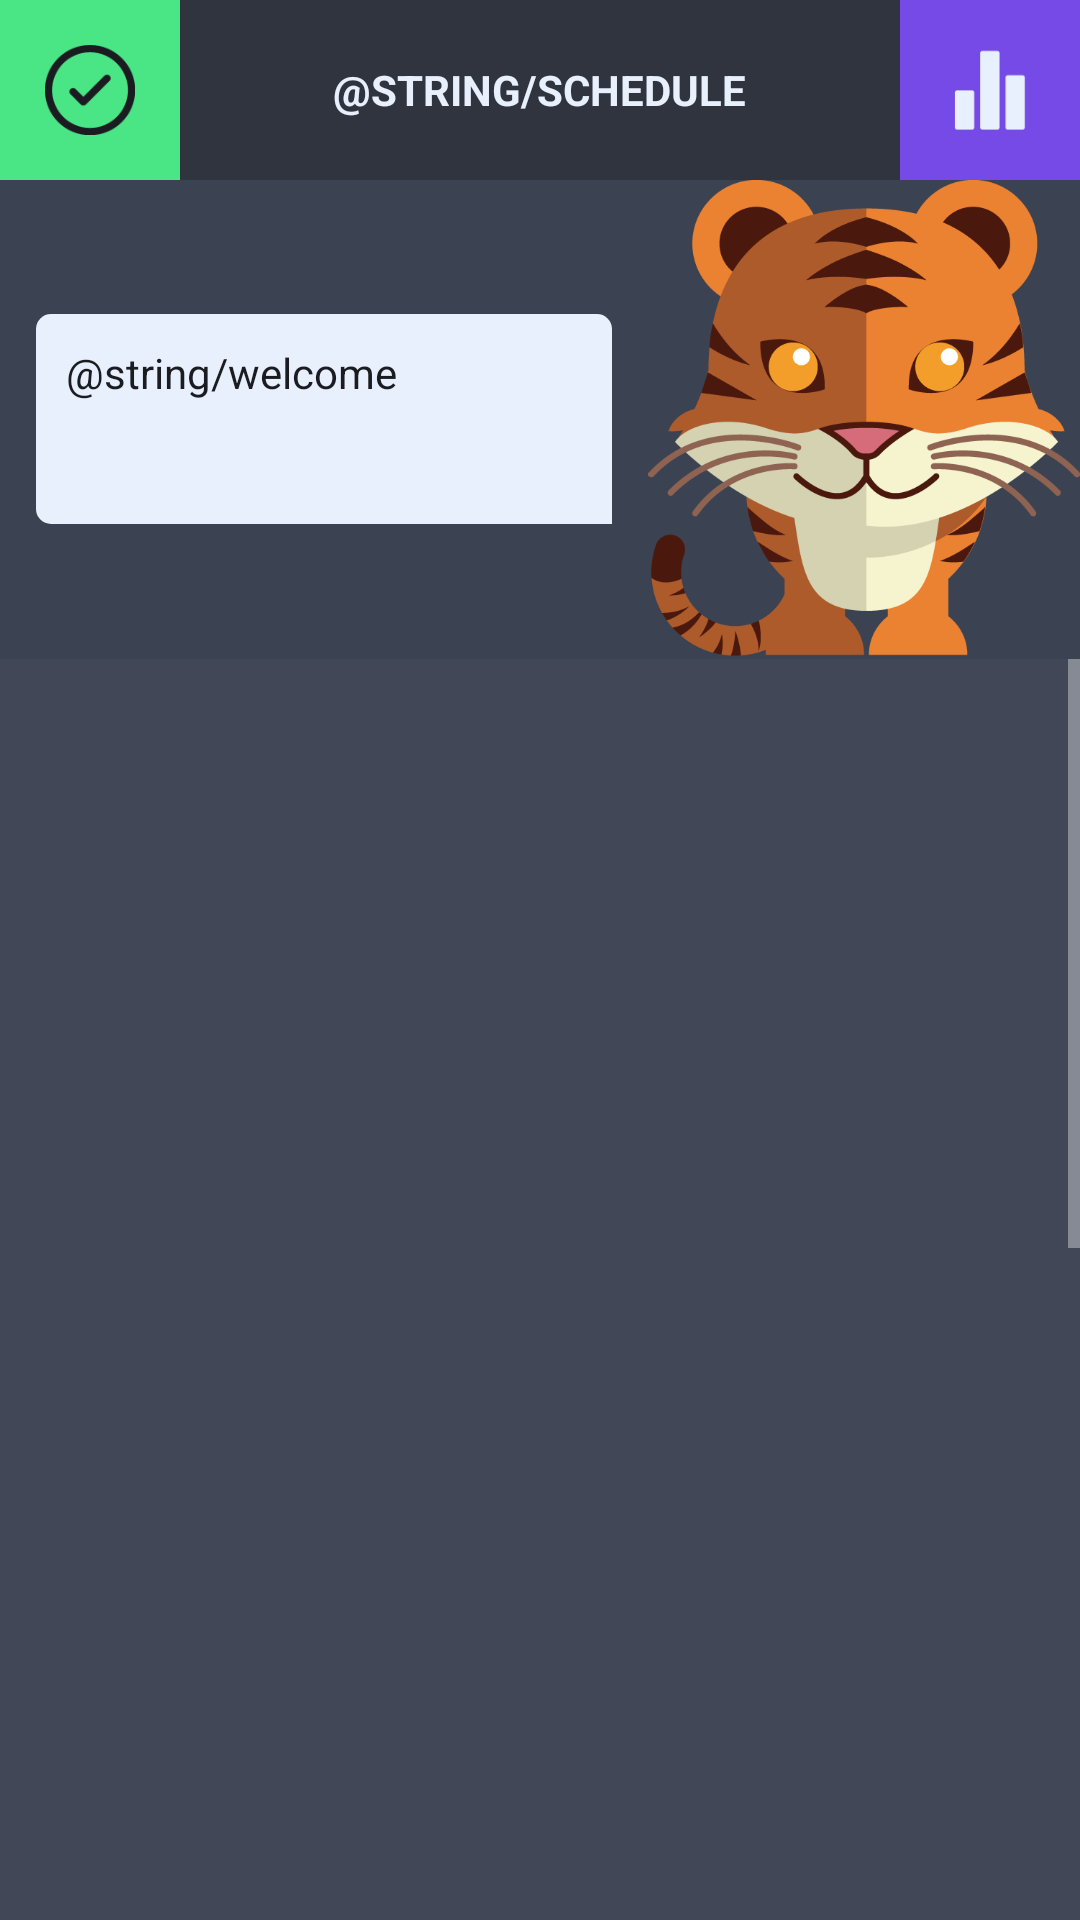

Point at icon controls on the screen. Image size 1080*1920, points as point (x, y).
done: point (90, 90)
statistics: point (990, 90)
